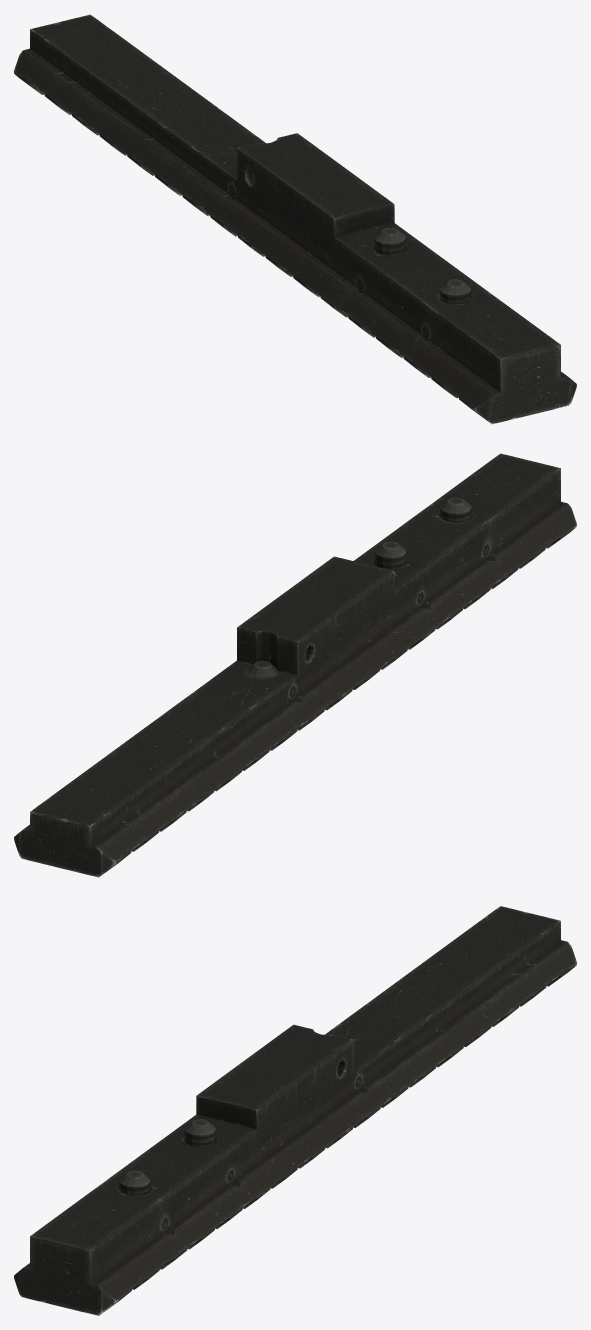
The picture shows the model from 3 angles, top to bottom: view 1: azimuth 30°, elevation 25°; view 2: azimuth 150°, elevation 25°; view 3: azimuth 330°, elevation 25°; orthographic projection.
Visible parts, largest first — view 1: TW_5bc5a372d4351e44f824d17f_PZ_Import; view 2: TW_5bc5a372d4351e44f824d17f_PZ_Import; view 3: TW_5bc5a372d4351e44f824d17f_PZ_Import.
Part boxes in pixels (x1,y1,x2,y2): TW_5bc5a372d4351e44f824d17f_PZ_Import: (14,14,576,424); TW_5bc5a372d4351e44f824d17f_PZ_Import: (14,453,576,877); TW_5bc5a372d4351e44f824d17f_PZ_Import: (14,906,576,1315).
Bounding box in the file's own units: 0.0122 × 0.0984 × 0.00942.
1 material, 1 textured.
